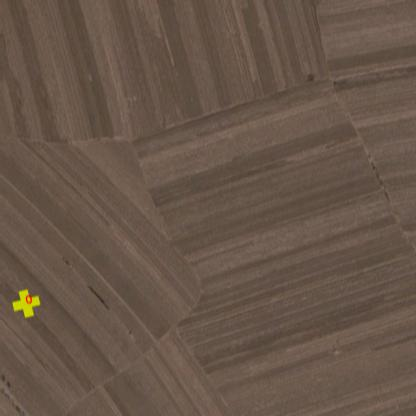0: (24, 294, 33, 306)
plus: (12, 288, 41, 318)
